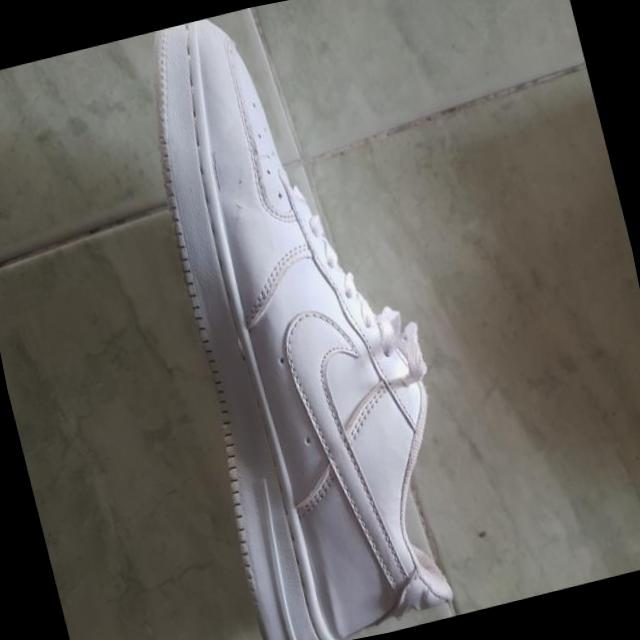nike_fake_airforce: (107, 0, 487, 640)
